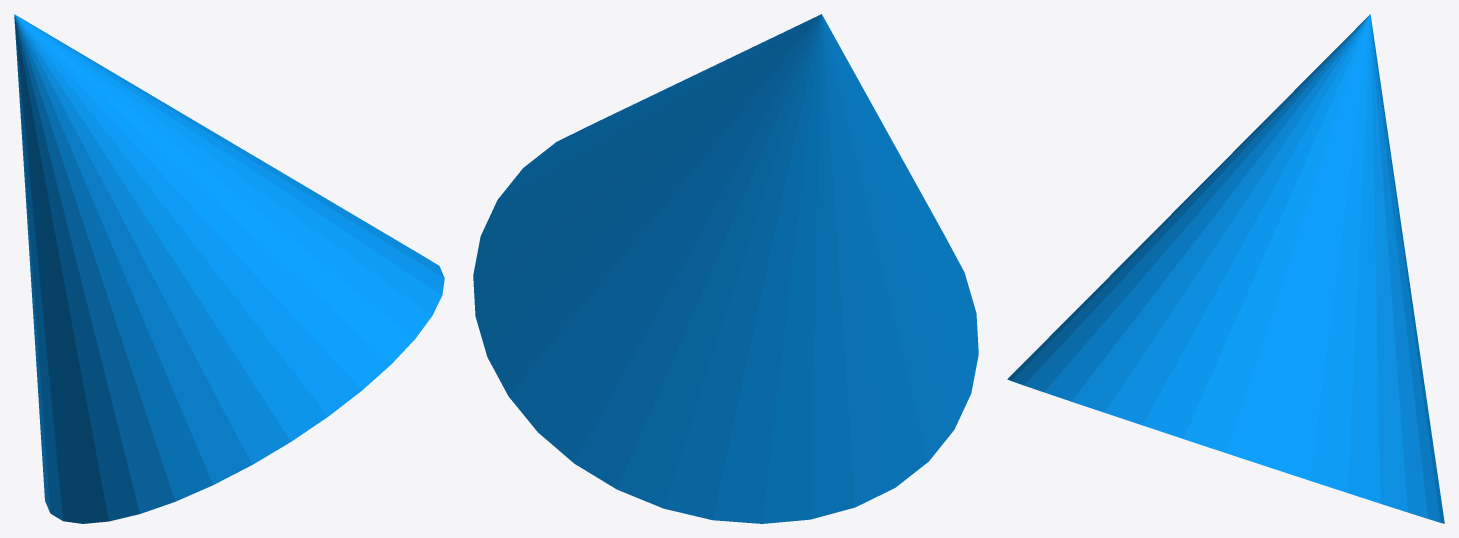
The model's file is asset.glb.
3 renders of one model, left to right at view 1: azimuth 30°, elevation 25°; view 2: azimuth 150°, elevation 25°; view 3: azimuth 270°, elevation 25°, orthographic. The views are drawn at different scales.
Visible parts, largest first — view 1: Cone; view 2: Cone; view 3: Cone.
Part boxes in pixels (bbox=[...]): Cone: bbox=[14, 14, 444, 523]; Cone: bbox=[473, 14, 978, 523]; Cone: bbox=[1007, 14, 1444, 523].
Size of the model in its own units: 2.32 by 2.82 by 2.4.
